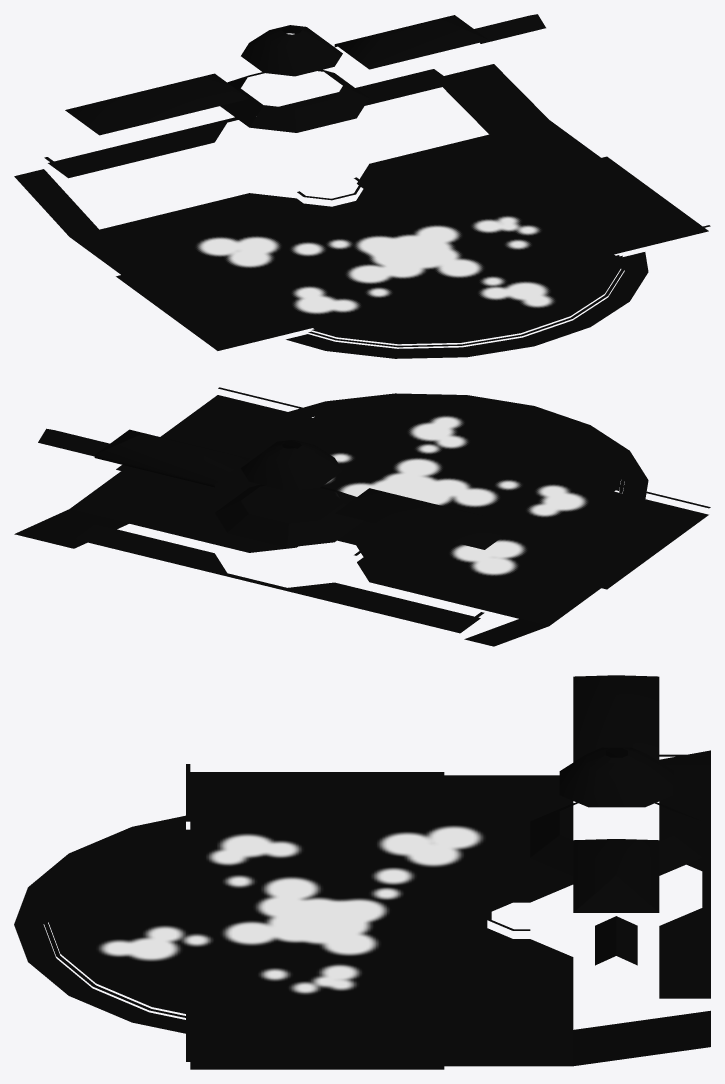
The model's file is pollution.dae.
3 renders of one model, top to bottom at view 1: azimuth 30°, elevation 25°; view 2: azimuth 150°, elevation 25°; view 3: azimuth 270°, elevation 25°, orthographic. The views are drawn at different scales.
Visible parts, largest first — view 1: n1b0, n0b1; view 2: n1b0, n0b1; view 3: n1b0, n0b1.
Part boxes in pixels (bbox=[...]): n1b0: bbox=[14, 14, 710, 358]; n0b1: bbox=[373, 237, 452, 271]; n1b0: bbox=[14, 387, 710, 646]; n0b1: bbox=[380, 474, 453, 503]; n1b0: bbox=[14, 675, 710, 1069]; n0b1: bbox=[278, 905, 351, 936].
Size of the model in its own units: 8192 by 2202 by 8100.
Materials: 1 (1 with a texture image).
